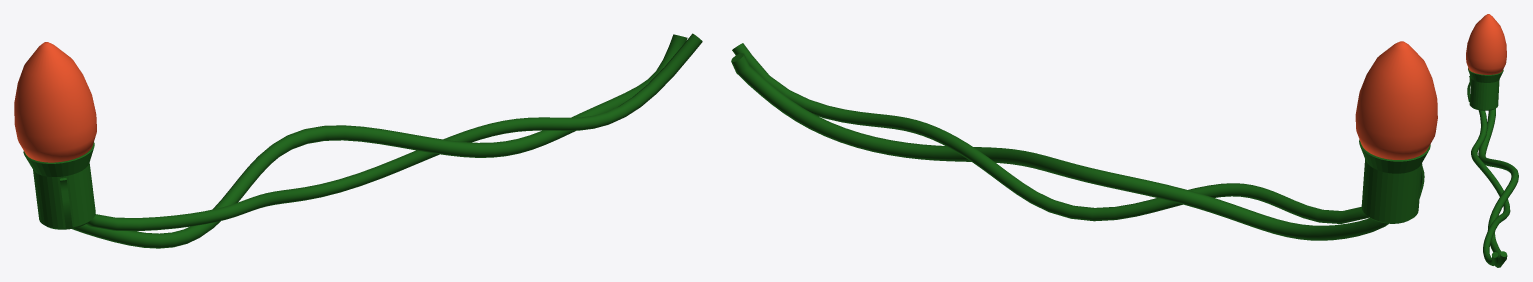
File: festiveLight4.fbx
3 renders of one model, left to right at view 1: azimuth 30°, elevation 25°; view 2: azimuth 150°, elevation 25°; view 3: azimuth 270°, elevation 25°, orthographic. The views are drawn at different scales.
Visible parts, largest first — view 1: Festive Light 4; view 2: Festive Light 4; view 3: Festive Light 4.
Boxes of the visible parts, x1,y1,x2,y2 form: Festive Light 4: (14,33,702,248); Festive Light 4: (731,41,1437,240); Festive Light 4: (1466,14,1518,267).
Size of the model in its own units: 294 by 96.98 by 39.03.
